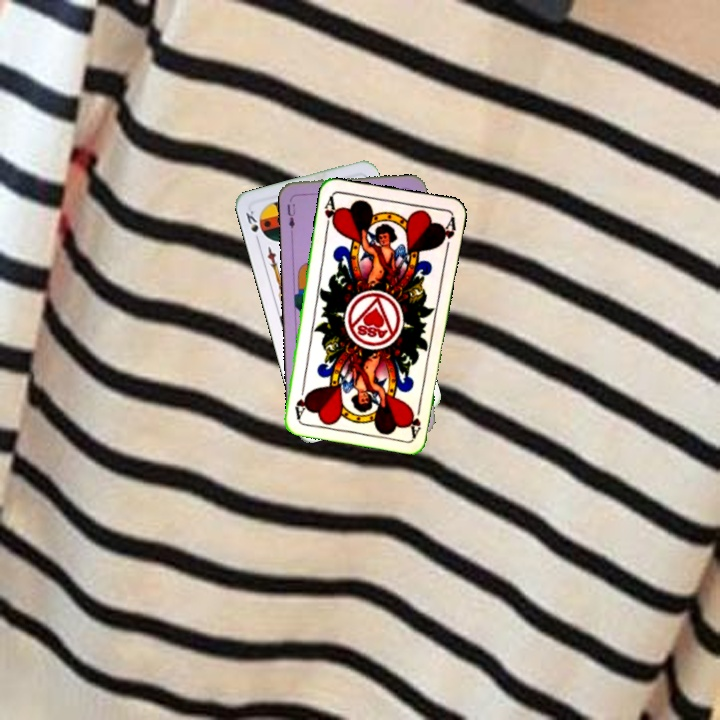EU: (283, 200, 298, 231)
HA: (320, 192, 340, 233), (406, 398, 423, 439)
SK: (242, 206, 262, 246)
